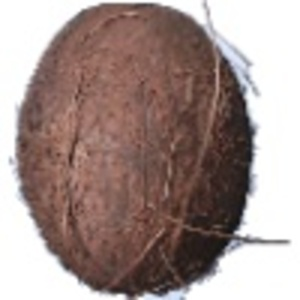coco: (9, 2, 259, 300)
